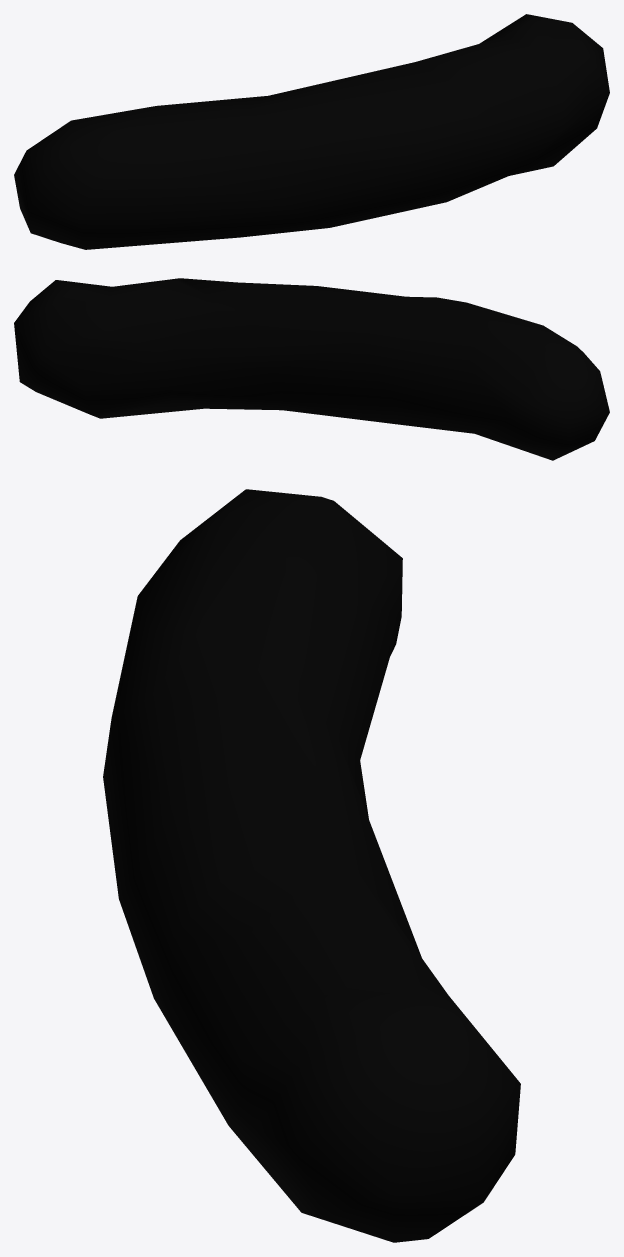
File: flat.glb
3 renders of one model, top to bottom at view 1: azimuth 30°, elevation 25°; view 2: azimuth 150°, elevation 25°; view 3: azimuth 270°, elevation 25°, orthographic. The views are drawn at different scales.
Parts seen in each view (by area): view 1: mouth_flat.001; view 2: mouth_flat.001; view 3: mouth_flat.001.
Boxes of the visible parts, bbox=[...] form: mouth_flat.001: bbox=[14, 14, 609, 249]; mouth_flat.001: bbox=[14, 278, 609, 460]; mouth_flat.001: bbox=[103, 489, 520, 1242].
Bounding box in the file's own units: 0.1556 × 0.0421 × 0.0503.
Materials: 1 (1 with a texture image).
